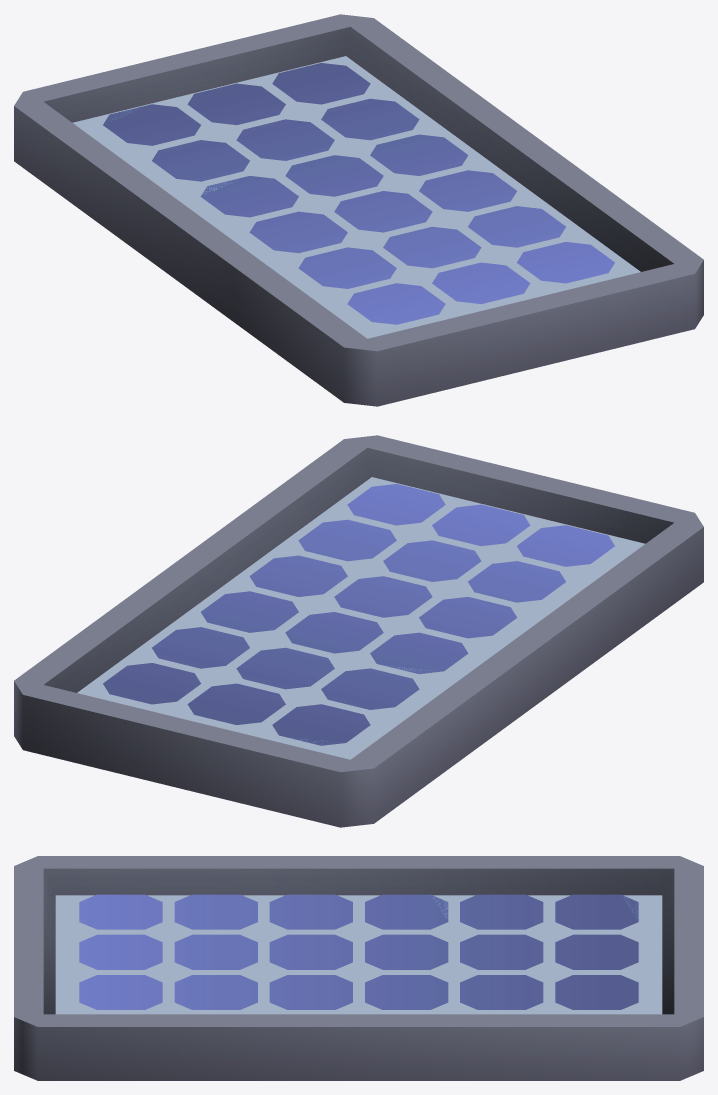
File: solpanel.glb
3 renders of one model, top to bottom at view 1: azimuth 30°, elevation 25°; view 2: azimuth 150°, elevation 25°; view 3: azimuth 270°, elevation 25°, orthographic. The views are drawn at different scales.
Visible parts, largest first — view 1: solar-panel-flat; view 2: solar-panel-flat; view 3: solar-panel-flat.
Boxes of the visible parts, x1=… form: solar-panel-flat: x1=14, y1=14, x2=703, y2=406; solar-panel-flat: x1=14, y1=435, x2=703, y2=827; solar-panel-flat: x1=14, y1=856, x2=703, y2=1080.
Bounding box in the file's own units: 0.4182 × 0.0615 × 0.7134.
1 material, 1 textured.
